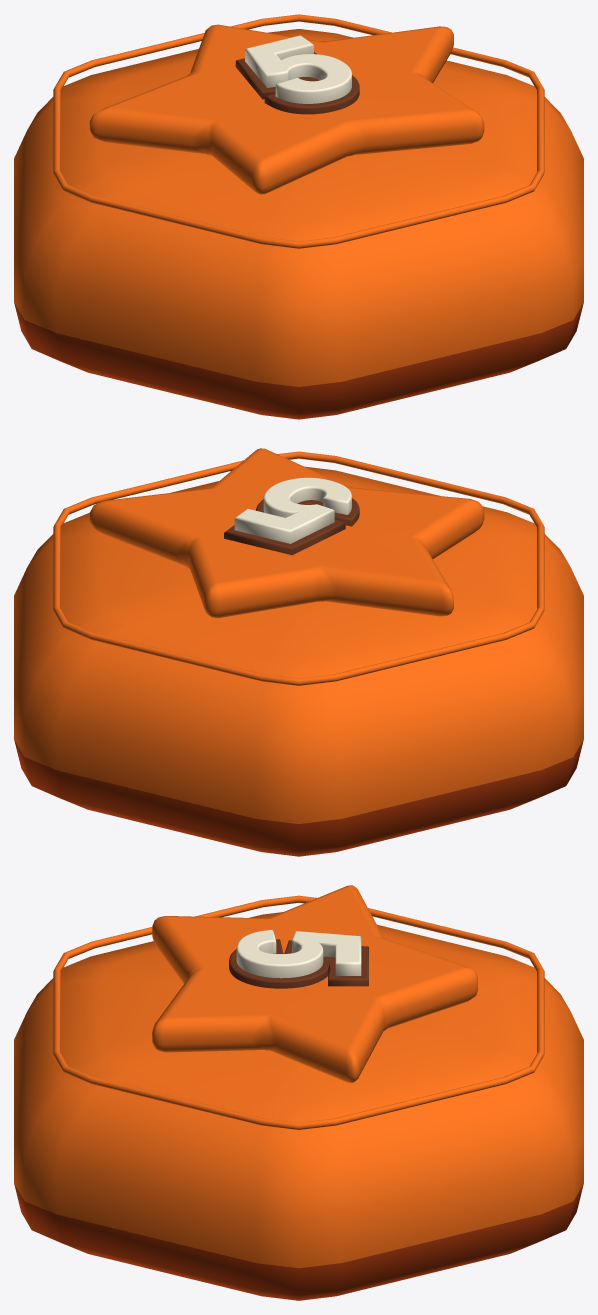
Rendered from HexStone_05_Orange.fbx.
The picture shows the model from 3 angles, top to bottom: view 1: azimuth 30°, elevation 25°; view 2: azimuth 150°, elevation 25°; view 3: azimuth 270°, elevation 25°; orthographic projection.
Visible parts, largest first — view 1: HX_V03_Orange_Body, HX_ToneRelief_05, HX_V03_Orange_InnerRim, HX_V03_Digit_5_Face, HX_V03_Digit_5_Outline; view 2: HX_V03_Orange_Body, HX_ToneRelief_05, HX_V03_Orange_InnerRim, HX_V03_Digit_5_Face, HX_V03_Digit_5_Outline; view 3: HX_V03_Orange_Body, HX_ToneRelief_05, HX_V03_Orange_InnerRim, HX_V03_Digit_5_Face, HX_V03_Digit_5_Outline.
Boxes of the visible parts, x1=… form: HX_V03_Orange_Body: x1=14, y1=29, x2=583, y2=419; HX_ToneRelief_05: x1=89, y1=24, x2=484, y2=194; HX_V03_Orange_InnerRim: x1=53, y1=14, x2=544, y2=248; HX_V03_Digit_5_Face: x1=245, y1=35, x2=351, y2=103; HX_V03_Digit_5_Outline: x1=235, y1=52, x2=359, y2=114; HX_V03_Orange_Body: x1=14, y1=466, x2=583, y2=856; HX_ToneRelief_05: x1=89, y1=448, x2=484, y2=618; HX_V03_Orange_InnerRim: x1=53, y1=451, x2=544, y2=685; HX_V03_Digit_5_Face: x1=234, y1=477, x2=351, y2=543; HX_V03_Digit_5_Outline: x1=224, y1=498, x2=359, y2=555; HX_V03_Orange_Body: x1=14, y1=912, x2=583, y2=1300; HX_ToneRelief_05: x1=152, y1=885, x2=477, y2=1082; HX_V03_Orange_InnerRim: x1=53, y1=895, x2=544, y2=1129; HX_V03_Digit_5_Face: x1=236, y1=930, x2=361, y2=978; HX_V03_Digit_5_Outline: x1=229, y1=939, x2=368, y2=988.
Bounding box in the file's own units: 75.07 × 31.05 × 67.55.
